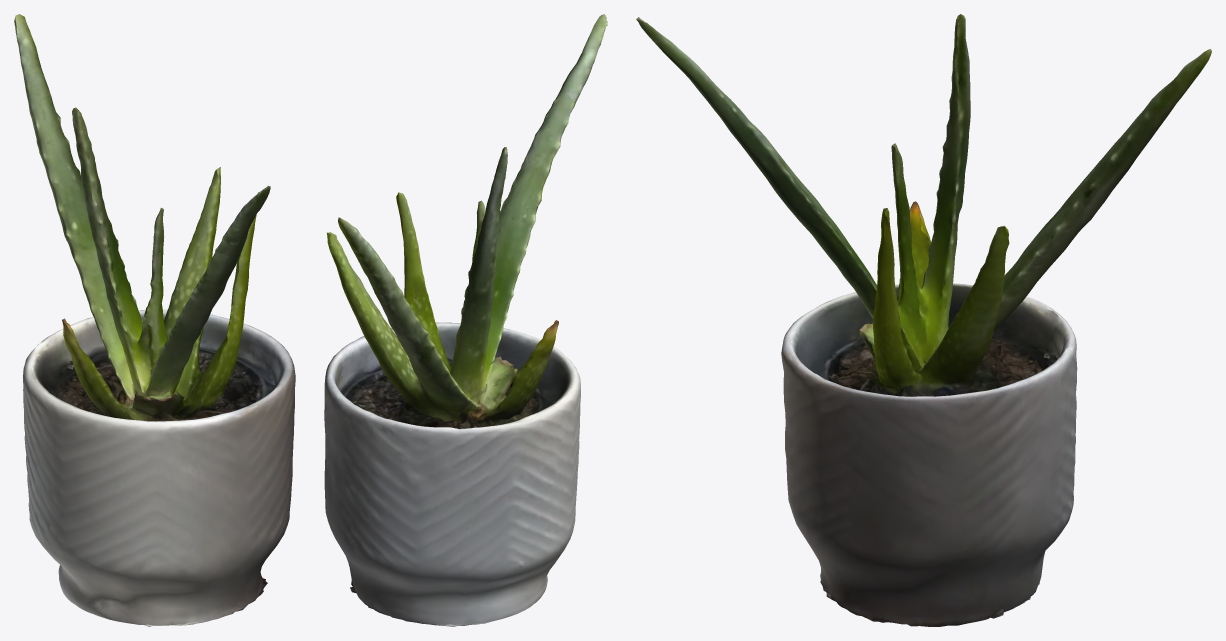
Rendered from alovera.glb.
3 renders of one model, left to right at view 1: azimuth 30°, elevation 25°; view 2: azimuth 150°, elevation 25°; view 3: azimuth 270°, elevation 25°, orthographic. The views are drawn at different scales.
Visible parts, largest first — view 1: Object_2; view 2: Object_2; view 3: Object_2.
Boxes of the visible parts, left/top/right/bottom form: Object_2: left=14, top=14, right=295, bottom=626; Object_2: left=324, top=14, right=607, bottom=626; Object_2: left=636, top=14, right=1211, bottom=626.
Size of the model in its own units: 0.129 by 0.2654 by 0.2531.
Materials: 1 (1 with a texture image).
